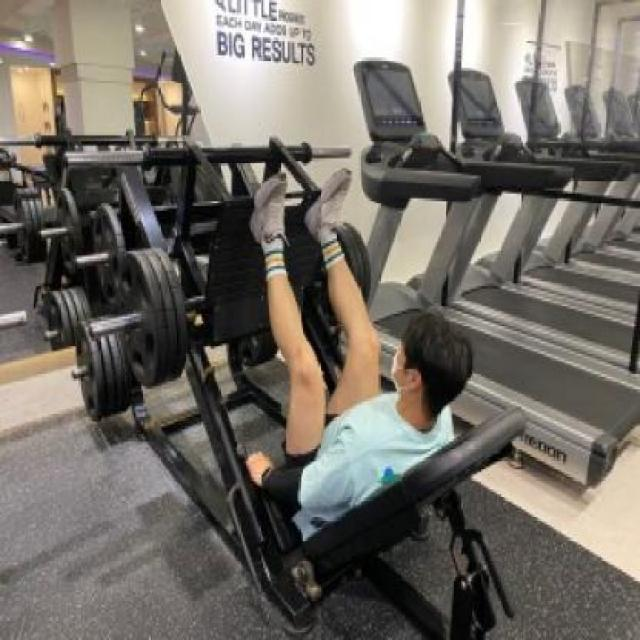leg press: (8, 84, 534, 640)
